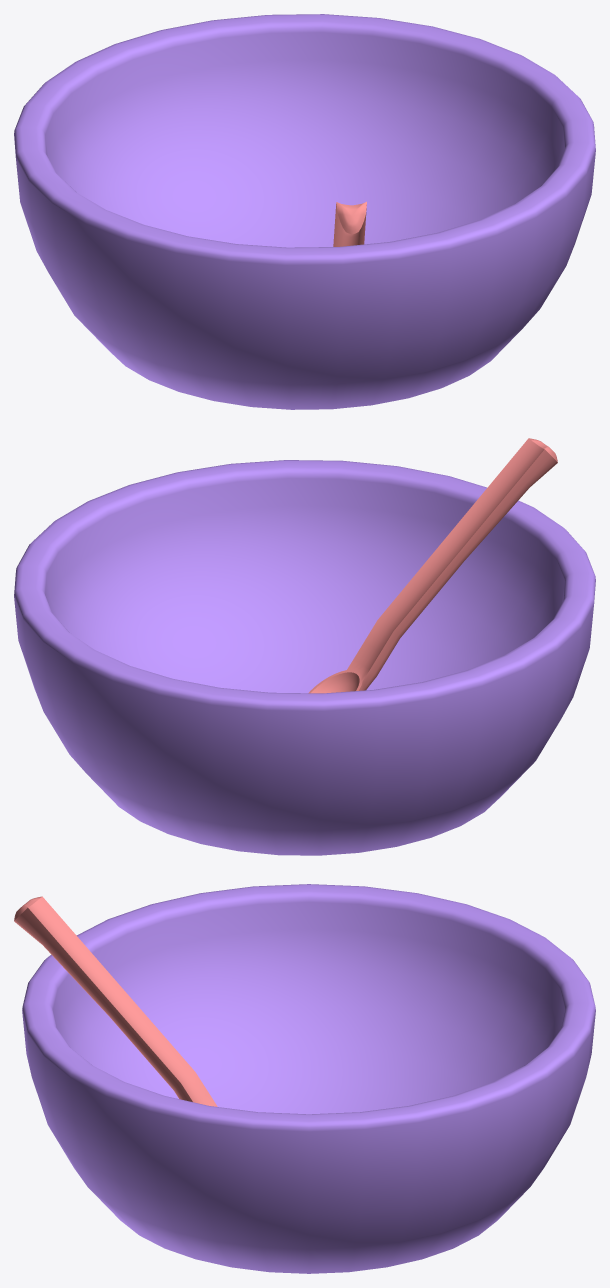
The model's file is Bowl with spoon.FBX.
The picture shows the model from 3 angles, top to bottom: view 1: azimuth 30°, elevation 25°; view 2: azimuth 150°, elevation 25°; view 3: azimuth 270°, elevation 25°; orthographic projection.
Visible parts, largest first — view 1: Bowl, Spoon; view 2: Bowl, Spoon; view 3: Bowl, Spoon.
Boxes of the visible parts, x1=… form: Bowl: x1=14, y1=14, x2=595, y2=409; Spoon: x1=333, y1=201, x2=366, y2=246; Bowl: x1=14, y1=460, x2=595, y2=855; Spoon: x1=308, y1=438, x2=557, y2=693; Bowl: x1=22, y1=884, x2=595, y2=1273; Spoon: x1=14, y1=896, x2=217, y2=1106.
Bounding box in the file's own units: 0.3921 × 0.1819 × 0.3977.
